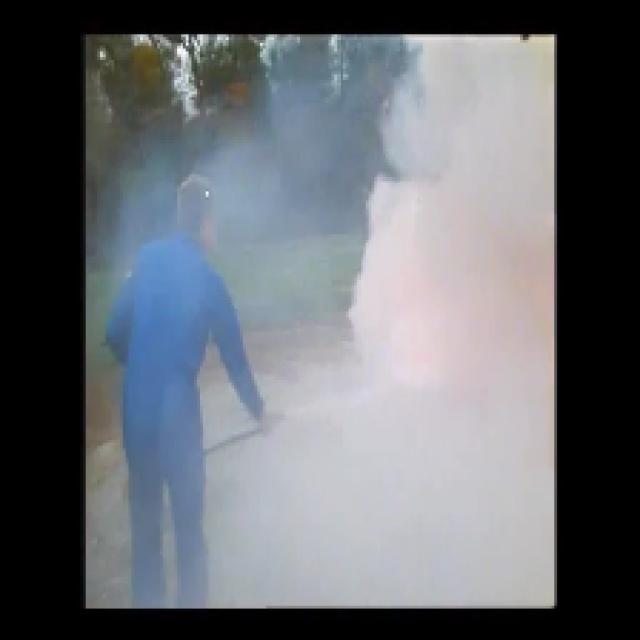smoke: (264, 101, 534, 605)
